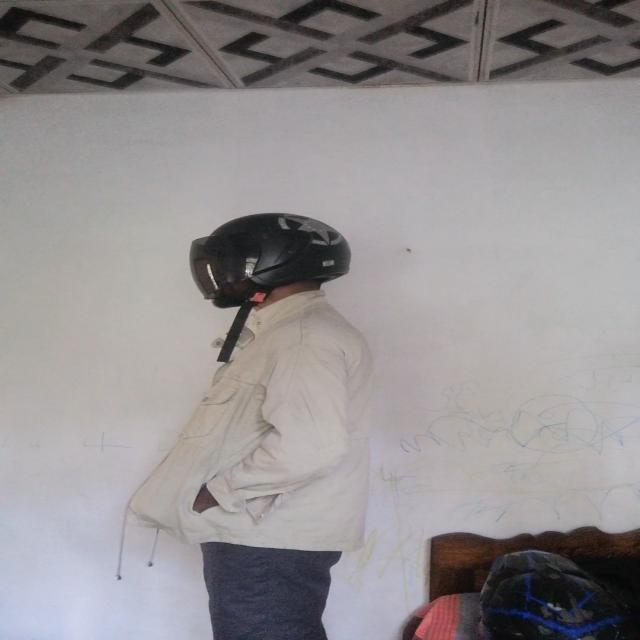Helmet_Wearer: (178, 216, 358, 320)
Jacket_Wearer: (142, 297, 418, 551)
Person: (136, 200, 420, 615)
